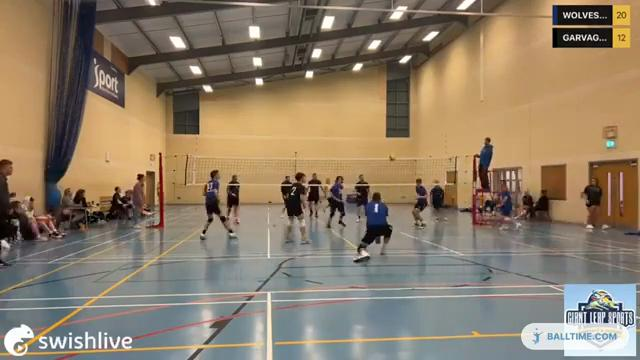Player: (200, 170, 235, 239), (286, 172, 308, 243), (327, 176, 345, 227), (412, 178, 428, 228), (355, 174, 369, 222), (226, 175, 239, 224), (307, 173, 321, 217), (430, 179, 444, 220), (499, 181, 512, 222), (281, 175, 291, 217), (322, 177, 330, 211)
Receive: (351, 188, 393, 265)
ball: (388, 154, 397, 161)
